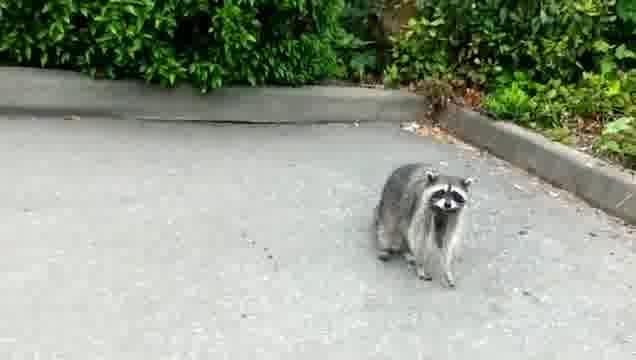raccoon: (373, 162, 475, 289)
